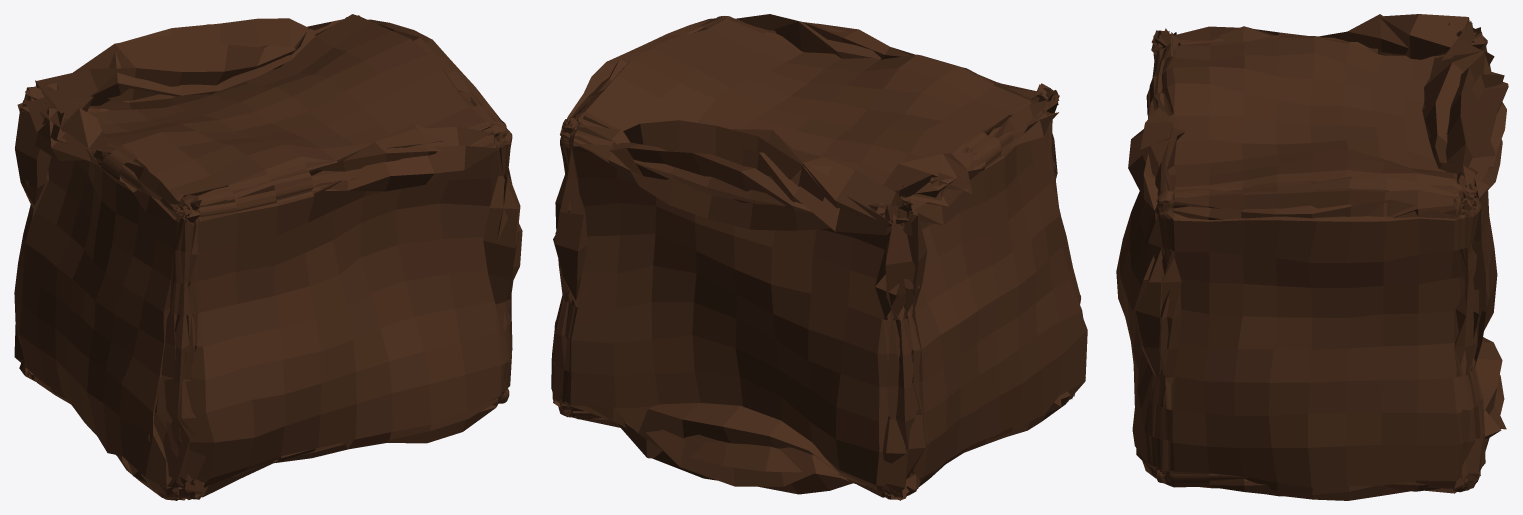
The model's file is items-chocolatechunk.glb.
The picture shows the model from 3 angles, left to right: view 1: azimuth 30°, elevation 25°; view 2: azimuth 150°, elevation 25°; view 3: azimuth 270°, elevation 25°; orthographic projection. The views are drawn at different scales.
Visible parts, largest first — view 1: ChocolateChunk__Chunk; view 2: ChocolateChunk__Chunk; view 3: ChocolateChunk__Chunk.
Boxes of the visible parts, box(x1,y1,x2,y2) form: ChocolateChunk__Chunk: box(14, 14, 522, 500); ChocolateChunk__Chunk: box(551, 14, 1087, 500); ChocolateChunk__Chunk: box(1116, 14, 1508, 500).
Size of the model in its own units: 3.7 by 3.14 by 3.09.
